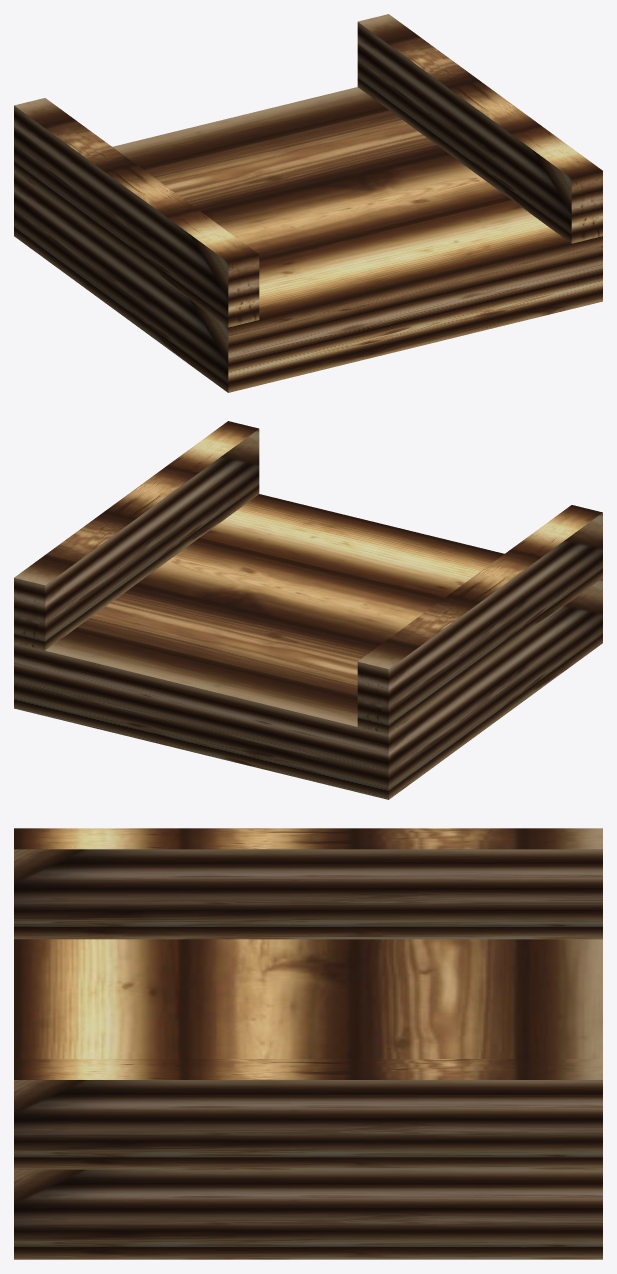
Rendered from C - Straight 3.obj.
3 views of the same model, one above another, from view 1: azimuth 30°, elevation 25°; view 2: azimuth 150°, elevation 25°; view 3: azimuth 270°, elevation 25° (orthographic). The views are drawn at different scales.
Parts seen in each view (by area): view 1: polySurface9; view 2: polySurface9; view 3: polySurface9.
Boxes of the visible parts, bbox=[...] form: polySurface9: bbox=[14, 14, 602, 392]; polySurface9: bbox=[14, 421, 602, 799]; polySurface9: bbox=[14, 828, 602, 1259].
Size of the model in its own units: 420 by 140 by 416.
